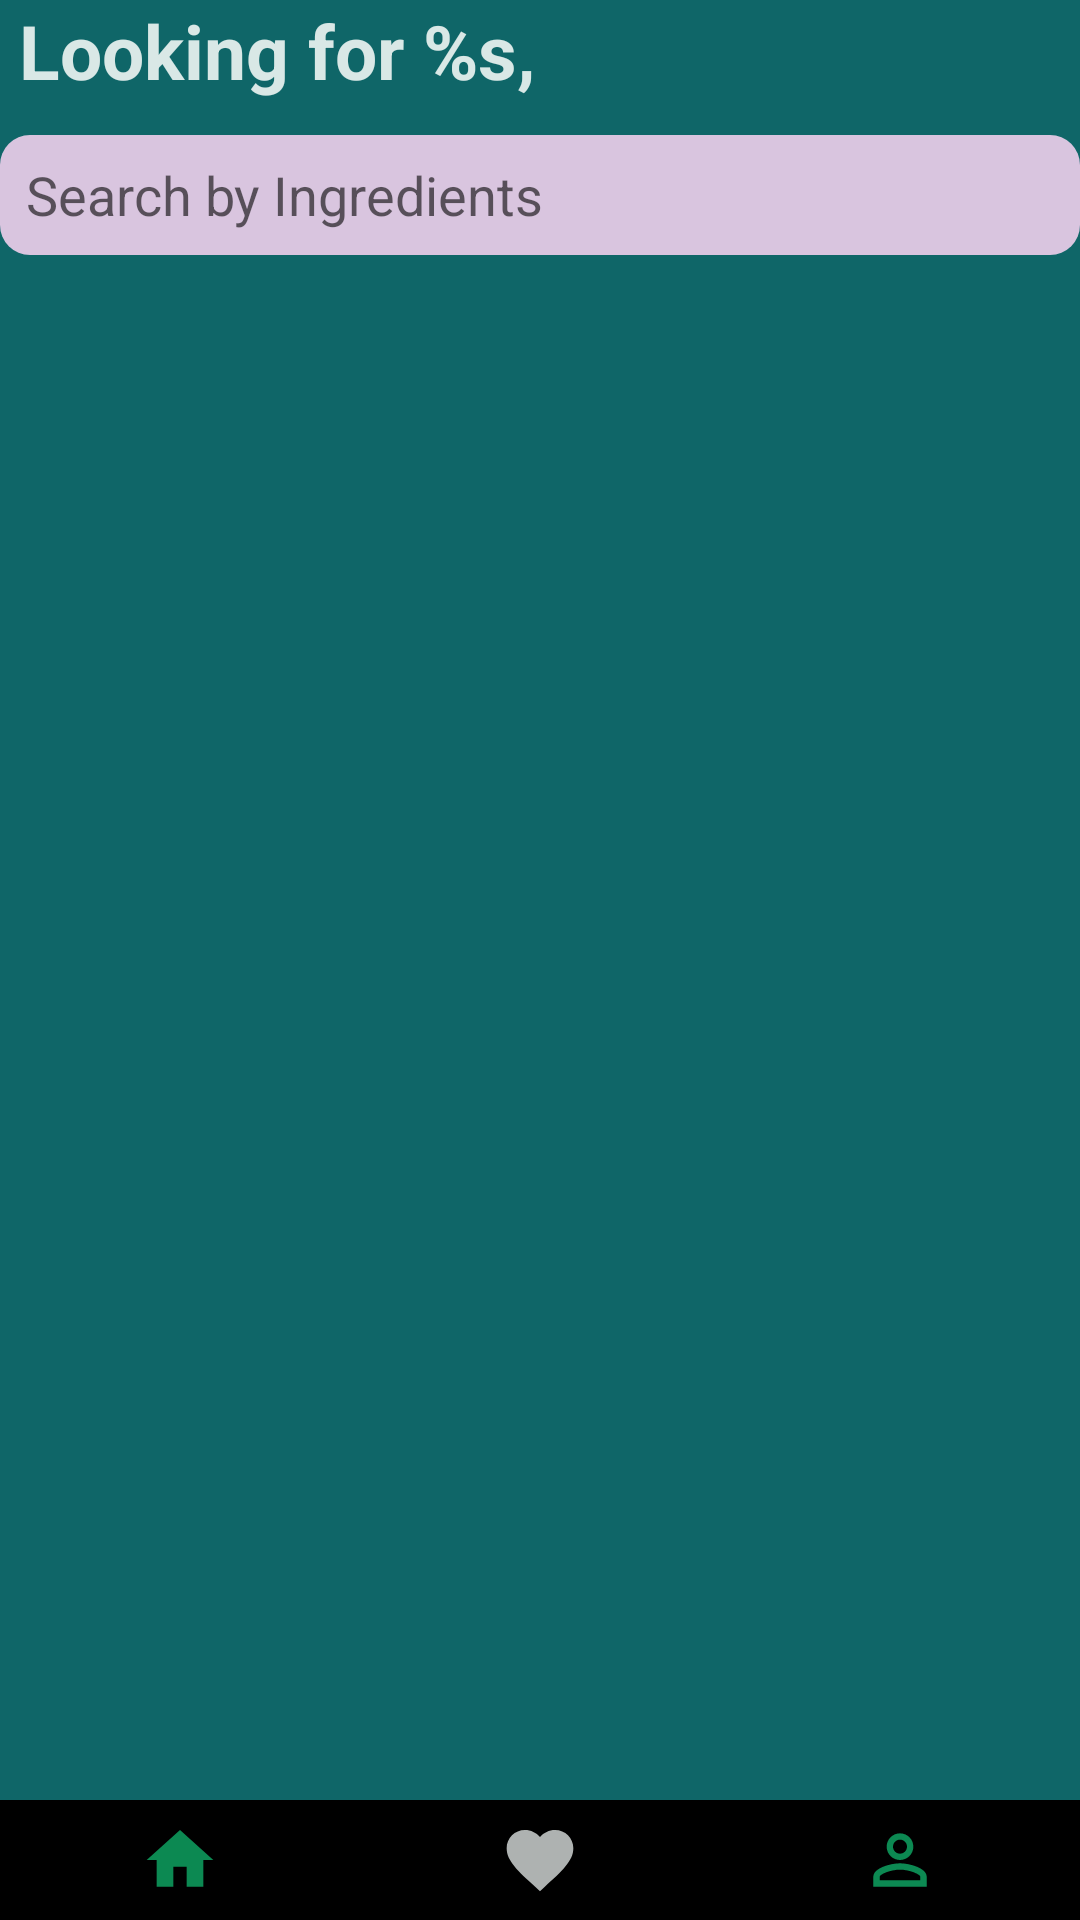

Icon bounding boxes for this 1080px×1920px phone screenshot, format (x1, y1, x2, y2):
favourite: (506, 1830, 574, 1891)
